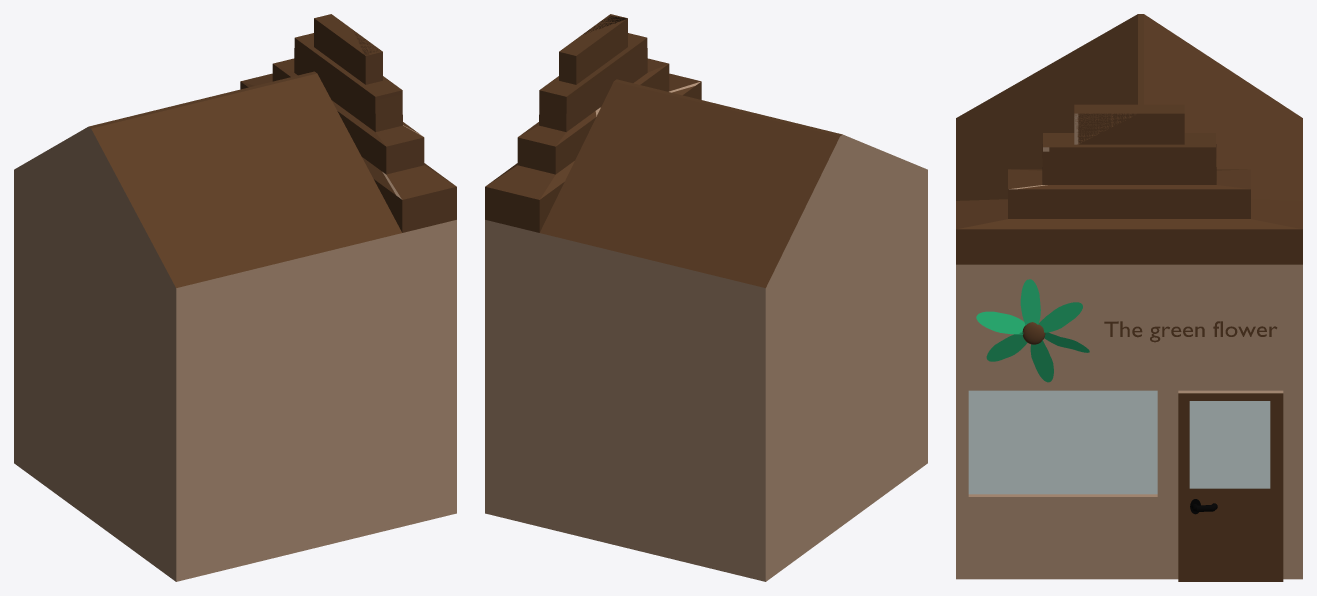
The model's file is thegreenflower.fbx.
3 views of the same model, side by side, from view 1: azimuth 30°, elevation 25°; view 2: azimuth 150°, elevation 25°; view 3: azimuth 270°, elevation 25° (orthographic). The views are drawn at different scales.
Parts seen in each view (by area): view 1: Cube, Cube.004, Cube.003; view 2: Cube, Cube.004, Cube.003; view 3: Cube, Cube.003, Cube.004, Cube.001, Cube.002, Cube.005, Text, Circle.004, Circle.001, Circle.002, Circle.005, Circle.006.
Boxes of the visible parts, x1=… form: Cube: x1=14, y1=125, x2=456, y2=581; Cube.004: x1=89, y1=71, x2=401, y2=287; Cube.003: x1=240, y1=14, x2=456, y2=232; Cube: x1=485, y1=81, x2=927, y2=581; Cube.004: x1=540, y1=79, x2=842, y2=287; Cube.003: x1=485, y1=14, x2=701, y2=232; Cube: x1=956, y1=113, x2=1302, y2=579; Cube.003: x1=956, y1=104, x2=1302, y2=264; Cube.004: x1=956, y1=14, x2=1302, y2=200; Cube.001: x1=968, y1=390, x2=1157, y2=494; Cube.002: x1=1178, y1=393, x2=1283, y2=581; Cube.005: x1=1189, y1=401, x2=1270, y2=488; Text: x1=1104, y1=321, x2=1277, y2=342; Circle.004: x1=976, y1=311, x2=1025, y2=334; Circle.001: x1=1020, y1=279, x2=1040, y2=325; Circle.002: x1=1038, y1=302, x2=1082, y2=332; Circle.005: x1=986, y1=332, x2=1027, y2=361; Circle.006: x1=1030, y1=340, x2=1053, y2=382.
Size of the model in its own units: 404 by 556 by 384.
